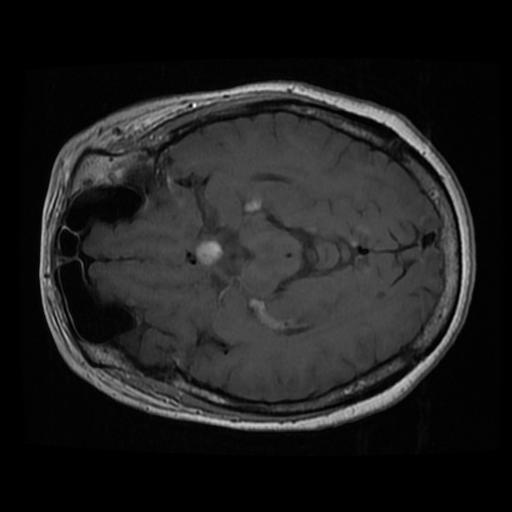pituitary tumour: (190, 239, 223, 269)
